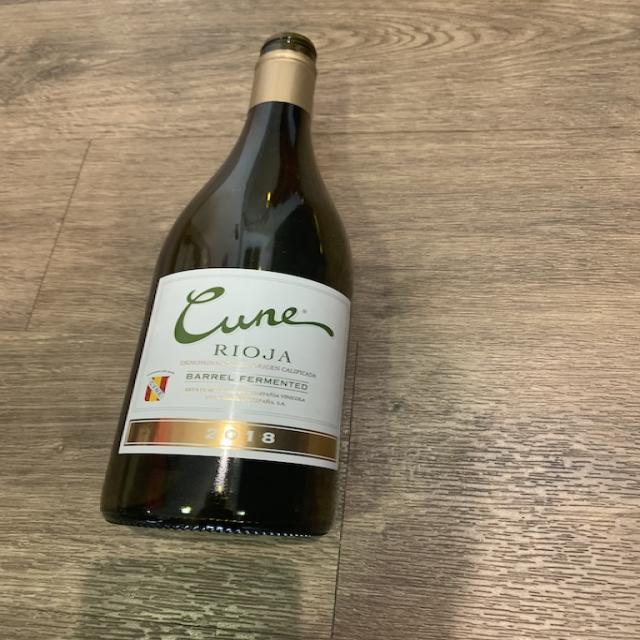litter: (94, 32, 356, 542)
